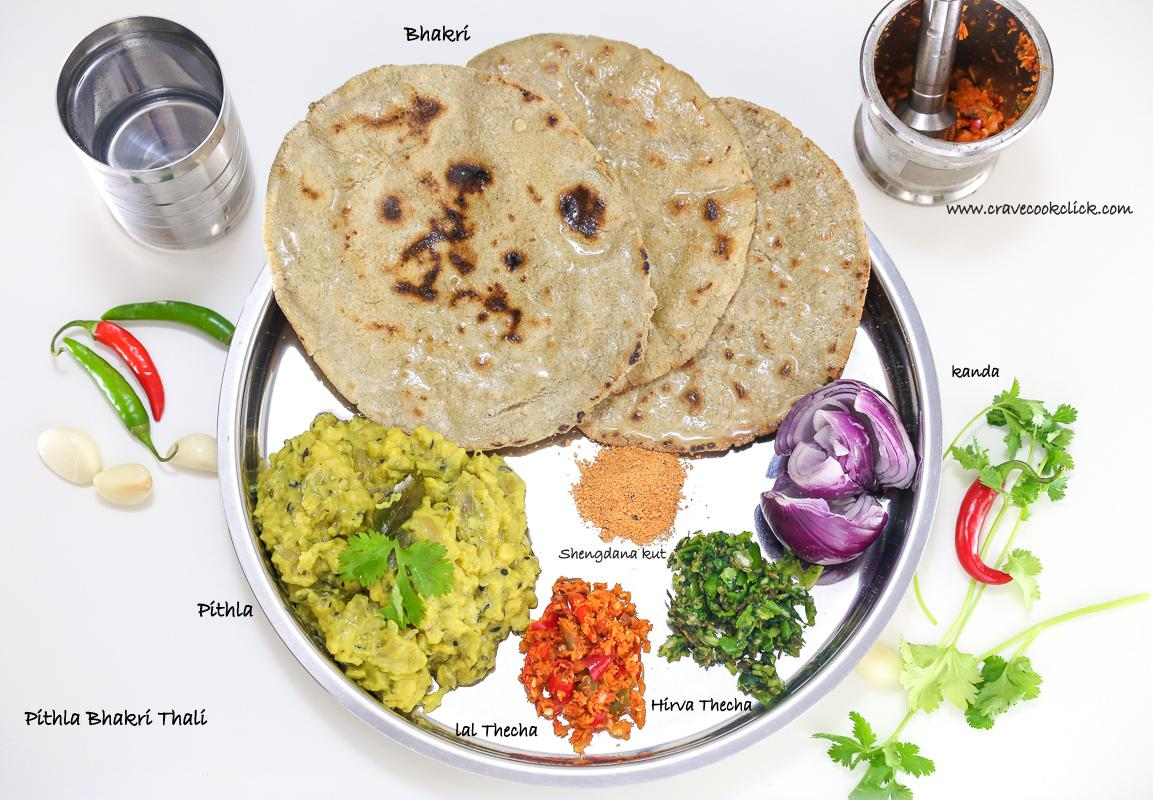bhakri: (275, 69, 652, 446), (455, 37, 758, 388), (596, 95, 867, 459)
salad: (750, 372, 923, 577)
